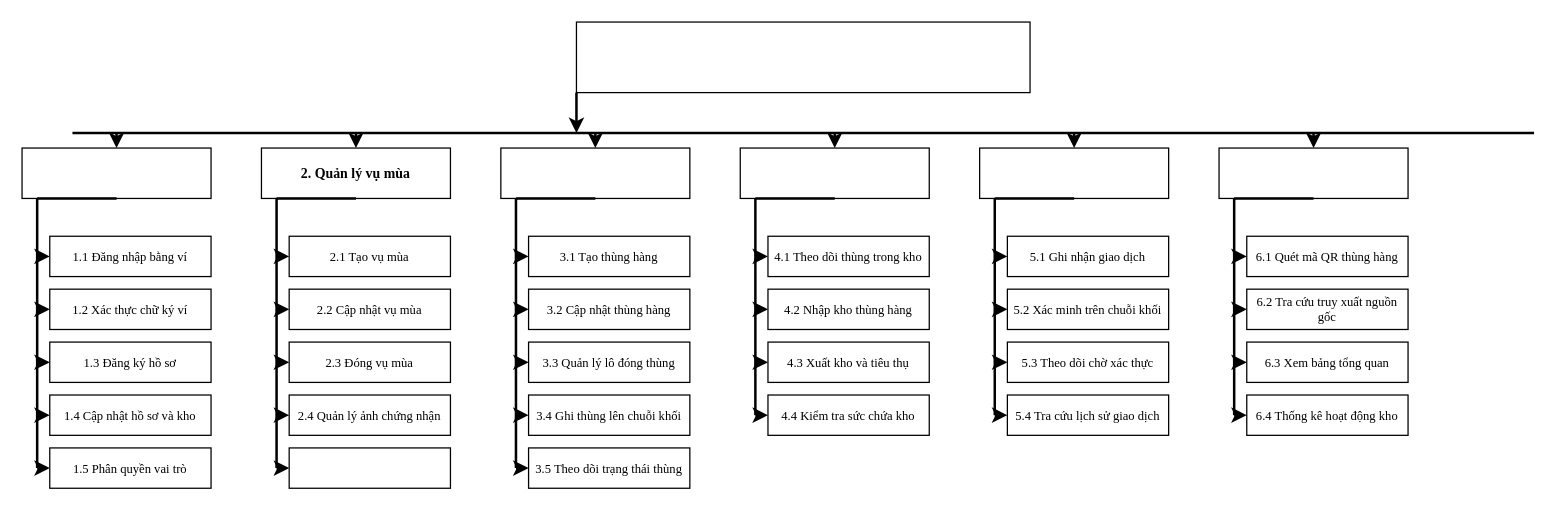
Some shapes in this 1559 by 510 pixel diagram are drawn without their labels. The box of each missing label's shape, as (x1, y1, x2, y2) in pixels:
1. Quản lý tài khoản: (21, 147, 211, 198)
2.5 Ghi dữ liệu lên chuỗi khối: (288, 447, 450, 488)
3. Quản lý thùng hàng: (500, 147, 690, 198)
4. Quản lý kho lưu trữ: (739, 147, 929, 198)
5. Xác thực chuỗi khối: (978, 147, 1169, 198)
6. Quét mã và tổng quan: (1218, 147, 1408, 198)
Hệ thống truy xuất nguồn gốc nông sản tích hợp chuỗi khối Cardano: (575, 21, 1030, 93)
